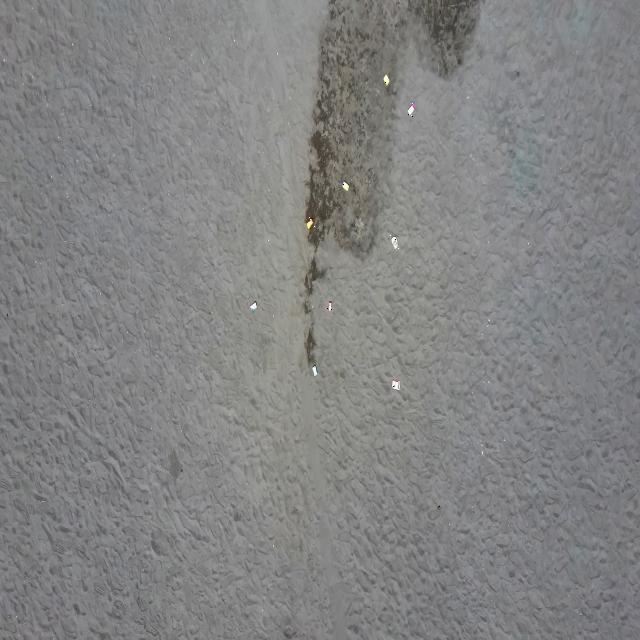Garbage: (407, 101, 415, 116), (248, 300, 256, 310), (391, 236, 397, 248), (342, 180, 348, 190), (392, 380, 399, 388), (306, 219, 312, 228), (326, 300, 331, 310), (312, 364, 316, 375), (384, 74, 388, 84)
